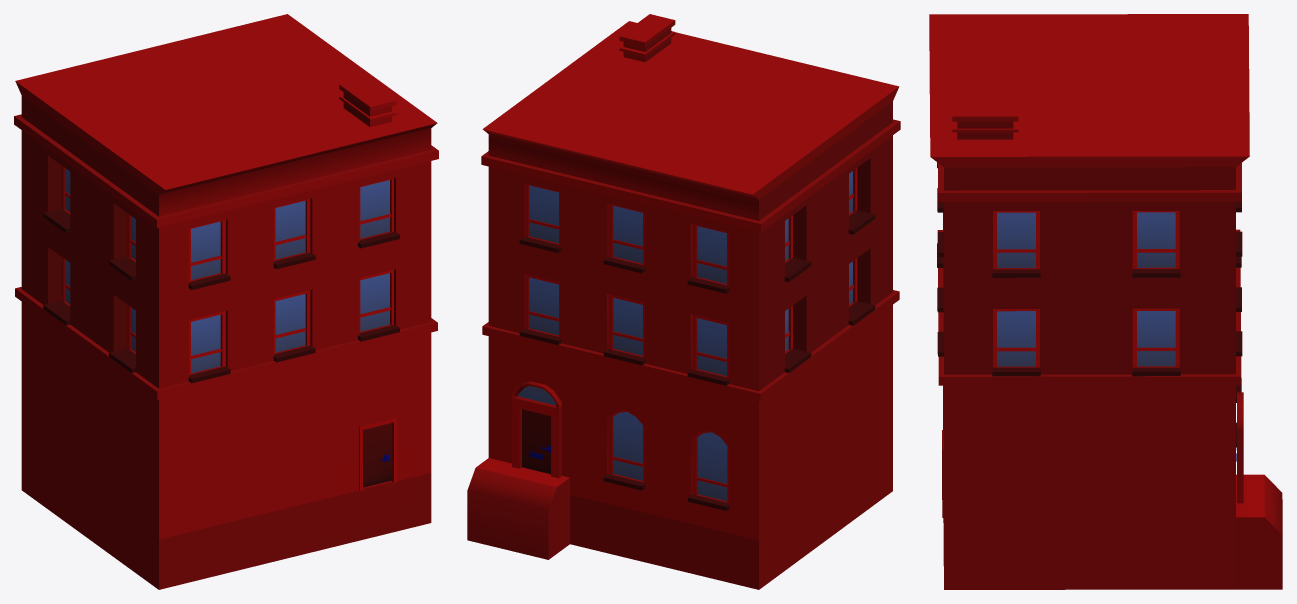
File: Mesh.LoftSmall.fbx
The picture shows the model from 3 angles, left to right: view 1: azimuth 30°, elevation 25°; view 2: azimuth 150°, elevation 25°; view 3: azimuth 270°, elevation 25°; orthographic projection. The views are drawn at different scales.
Parts seen in each view (by area): view 1: base.160, windowRefl.121; view 2: base.160, windowRefl.121; view 3: base.160, windowRefl.121.
Boxes of the visible parts, bbox=[...] form: base.160: bbox=[14, 14, 438, 589]; windowRefl.121: bbox=[66, 169, 389, 373]; base.160: bbox=[467, 14, 900, 589]; windowRefl.121: bbox=[518, 171, 852, 501]; base.160: bbox=[929, 14, 1282, 589]; windowRefl.121: bbox=[997, 212, 1175, 366].
Bounding box in the file's own units: 1115 × 1104 × 1590.
